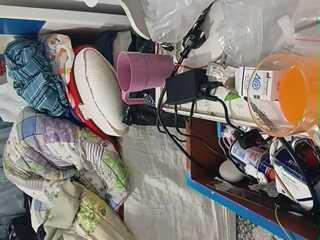cup: (248, 53, 319, 144), (117, 52, 173, 104)
